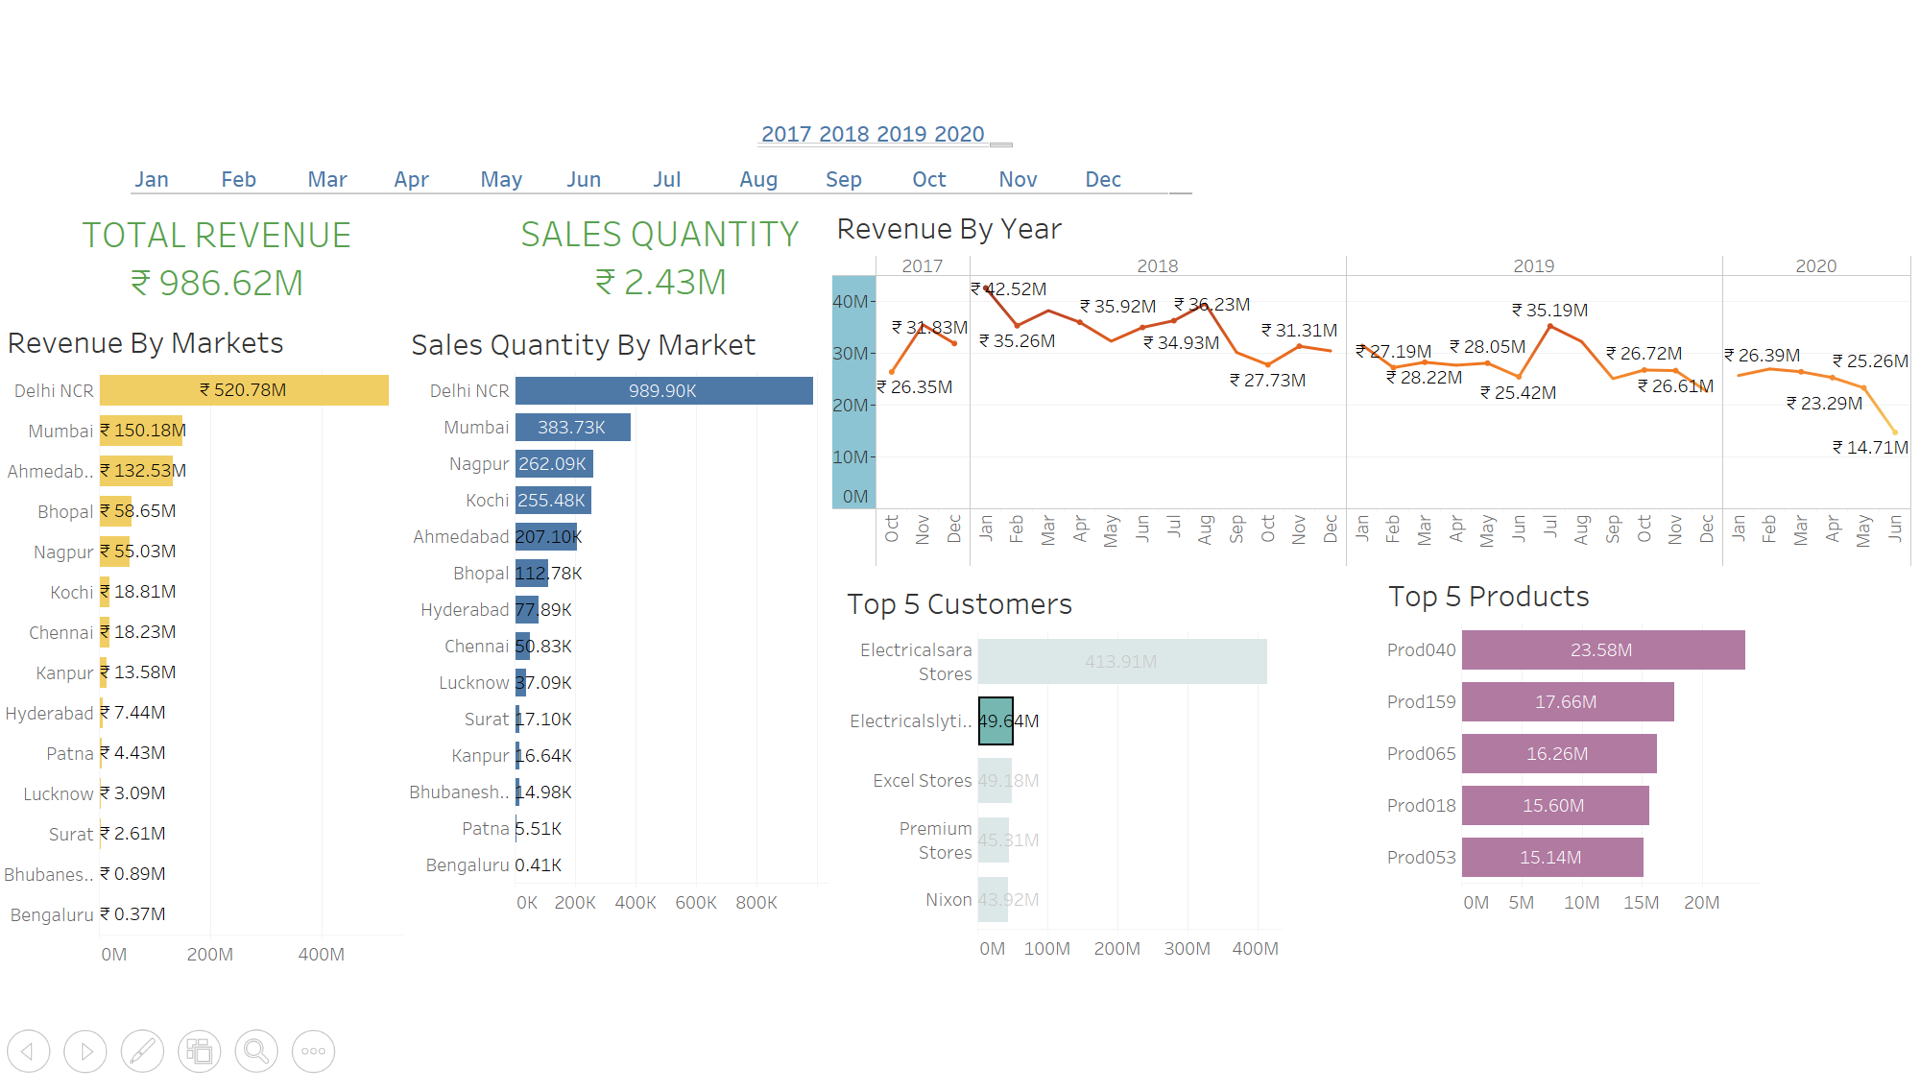

Layout of this report page (visuals, bound fields, positions):
{"tool":"tableau","page":{"name":"Dashboard 1","canvas":[2000,900],"ordinal":0},"visuals":[{"type":"worksheet","title":"Year","mark":"Automatic","cols":["cy_date"],"box":[788.8,1,457.5,40]},{"type":"worksheet","title":"Month","mark":"Automatic","cols":["cy_date"],"box":[136.3,43,1445,47]},{"type":"worksheet","title":"Quantity","mark":"Automatic","box":[537.5,90,666.3,273]},{"type":"worksheet","title":"Revenue By Year","mark":"Automatic","rows":["Calculation_1229201259482959872"],"cols":["cy_date","cy_date"],"box":[867,97,1124,381]},{"type":"worksheet","title":"Revenue By Markets","mark":"Automatic","rows":["markets_name"],"cols":["Calculation_1229201259482959872"],"box":[3,216,417,685]},{"type":"worksheet","title":"Sales Quantity By Market","mark":"Automatic","rows":["markets_name"],"cols":["sales_qty"],"box":[424,218,439,673]},{"type":"worksheet","title":"Top 5 Products","mark":"Automatic","rows":["product_code (products)"],"cols":["Calculation_1229201259482959872"],"box":[1442,480,391,412]},{"type":"worksheet","title":"Top 5 Customers","mark":"Automatic","rows":["custmer_name"],"cols":["Calculation_1229201259482959872"],"box":[878,488,457,406]}]}

Visuals, with their boxes on the page's 2000x900 design canvas (x1, y1, x2, y2). These are canvas units, not pixel positions in the 1920x1080 screenshot, which may show the page scaled, cropped or inside an application window:
"Year" worksheet: locate(789, 1, 1246, 41)
"Month" worksheet: locate(136, 43, 1581, 90)
"Quantity" worksheet: locate(538, 90, 1204, 363)
"Revenue By Year" worksheet: locate(867, 97, 1991, 478)
"Revenue By Markets" worksheet: locate(3, 216, 420, 901)
"Sales Quantity By Market" worksheet: locate(424, 218, 863, 891)
"Top 5 Products" worksheet: locate(1442, 480, 1833, 892)
"Top 5 Customers" worksheet: locate(878, 488, 1335, 894)
